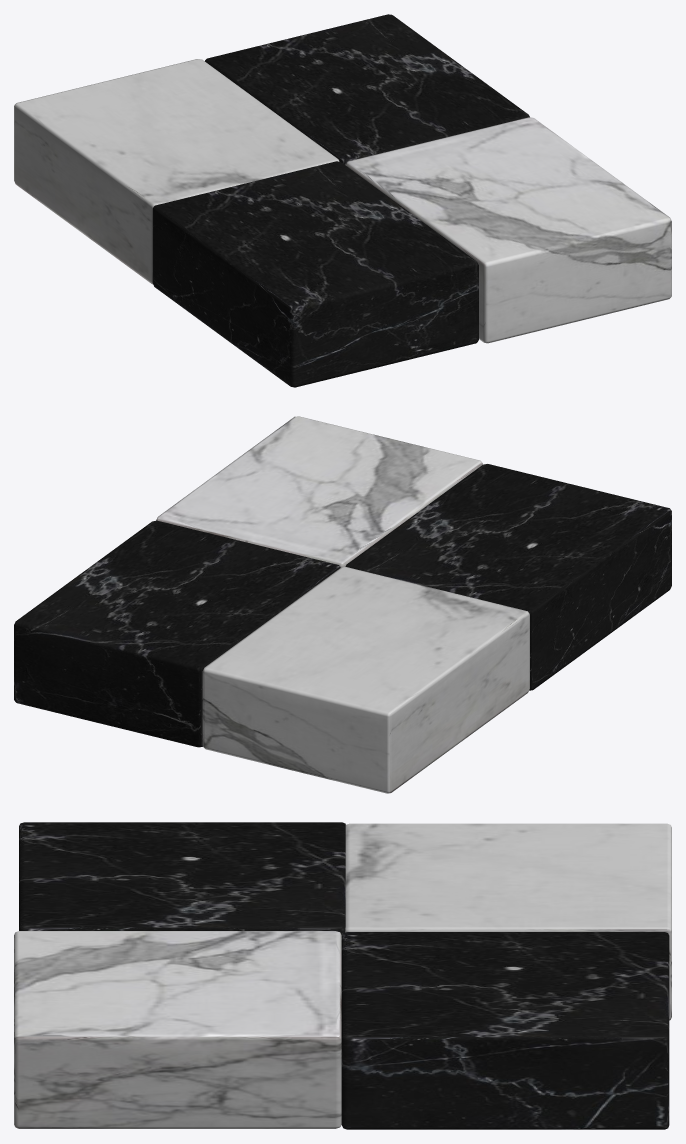
The model's file is HEAVEN.fbx.
3 views of the same model, one above another, from view 1: azimuth 30°, elevation 25°; view 2: azimuth 150°, elevation 25°; view 3: azimuth 270°, elevation 25° (orthographic). The views are drawn at different scales.
Parts seen in each view (by area): view 1: polySurface9; view 2: polySurface9; view 3: polySurface9.
Boxes of the visible parts, <box> form: polySurface9: <box>14,14,671,387</box>; polySurface9: <box>14,416,671,793</box>; polySurface9: <box>14,822,671,1129</box>.
Bounding box in the file's own units: 6.31 × 1.32 × 8.18.
Materials: 2 (2 with a texture image).
